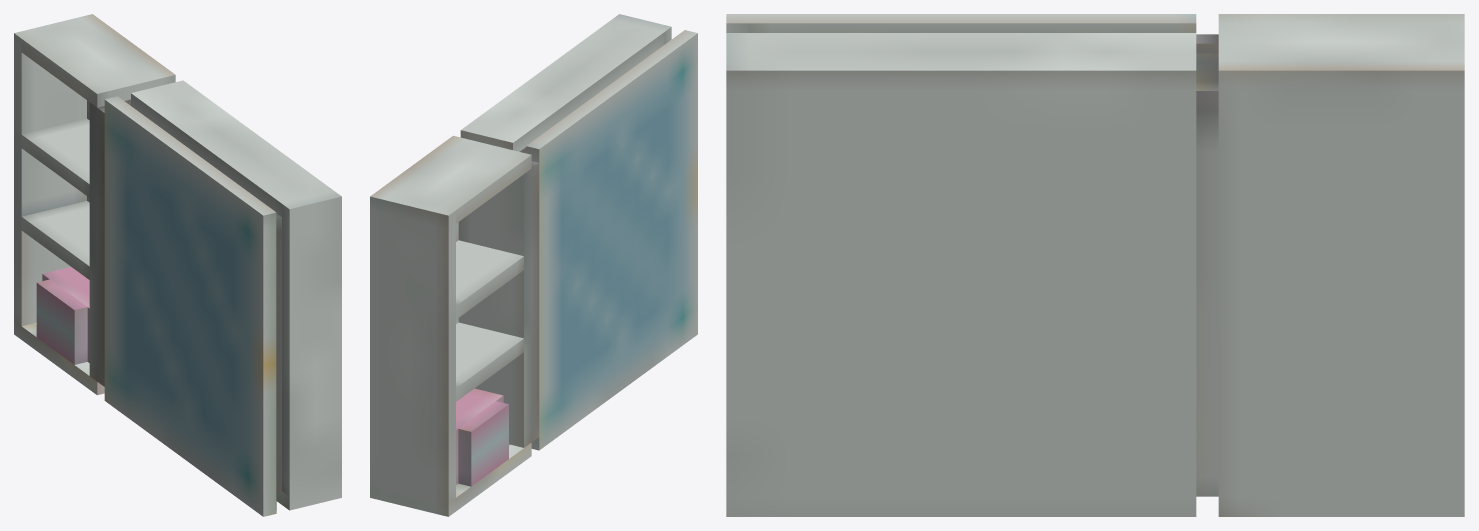
The model's file is CabinetWithMirror_00.fbx.
3 views of the same model, side by side, from view 1: azimuth 30°, elevation 25°; view 2: azimuth 150°, elevation 25°; view 3: azimuth 270°, elevation 25° (orthographic). The views are drawn at different scales.
Parts seen in each view (by area): view 1: CabinetWithMirror_00; view 2: CabinetWithMirror_00; view 3: CabinetWithMirror_00.
Part boxes in pixels (x1=…): CabinetWithMirror_00: x1=14, y1=14, x2=341, y2=516; CabinetWithMirror_00: x1=370, y1=14, x2=697, y2=516; CabinetWithMirror_00: x1=726, y1=14, x2=1464, y2=516.
Size of the model in its own units: 30 by 165 by 110.
1 material, 1 textured.
